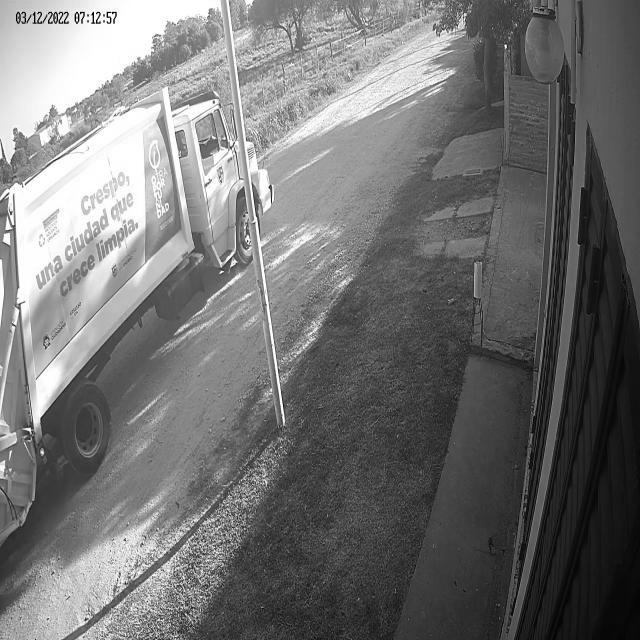Garbage Truck: (0, 88, 276, 550)
